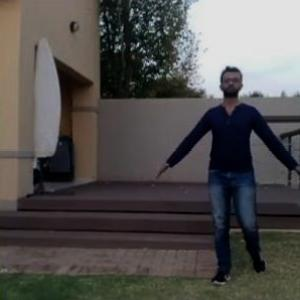land: (161, 70, 297, 278)
